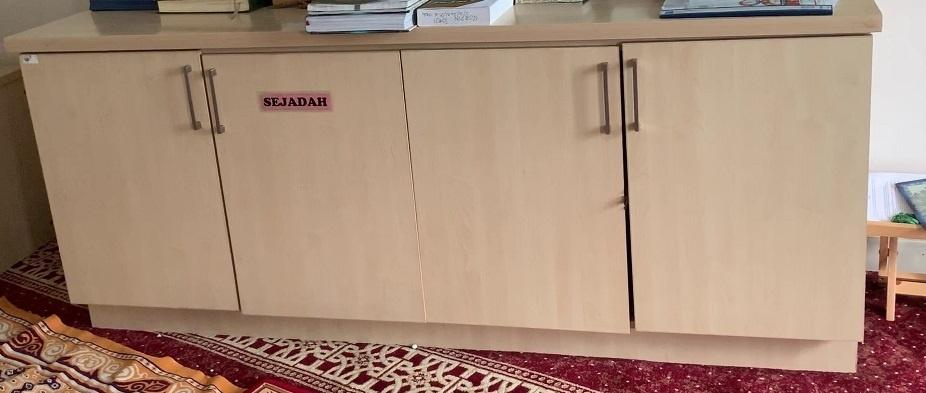cabinet_door: (628, 41, 871, 333), (411, 43, 627, 322), (223, 52, 411, 320), (46, 55, 215, 306)
handle: (178, 63, 204, 132), (596, 60, 617, 135), (207, 67, 228, 136), (627, 57, 644, 133)
